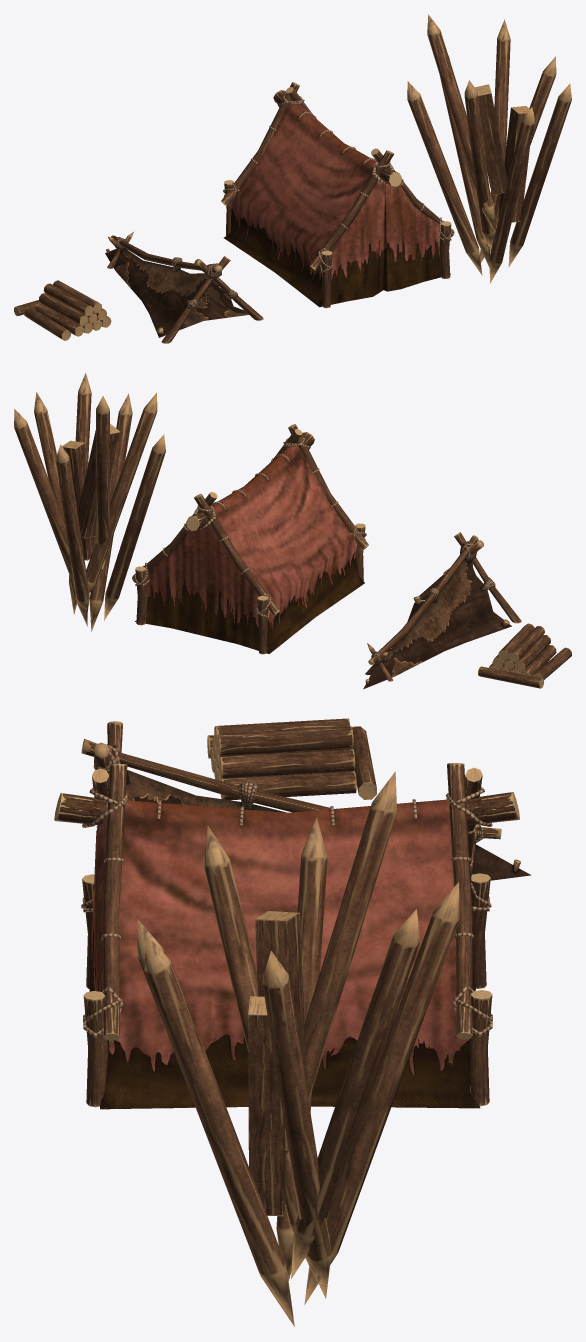
Rendered from hunter_village 1.fbx.
3 views of the same model, one above another, from view 1: azimuth 30°, elevation 25°; view 2: azimuth 150°, elevation 25°; view 3: azimuth 270°, elevation 25° (orthographic). The views are drawn at different scales.
Visible parts, largest first — view 1: tent_01, wood_2, tent_04, wood; view 2: tent_01, wood_2, tent_04, wood; view 3: tent_01, wood_2, wood, tent_04.
Boxes of the visible parts, bbox=[...] form: tent_01: bbox=[221, 82, 454, 308]; wood_2: bbox=[407, 14, 571, 283]; tent_04: bbox=[105, 232, 263, 343]; wood: bbox=[14, 280, 111, 340]; tent_01: bbox=[132, 424, 368, 654]; wood_2: bbox=[14, 373, 165, 631]; tent_04: bbox=[363, 532, 521, 689]; wood: bbox=[478, 623, 571, 688]; tent_01: bbox=[54, 763, 519, 1109]; wood_2: bbox=[137, 771, 459, 1326]; wood: bbox=[207, 718, 376, 800]; tent_04: bbox=[81, 721, 530, 880].
Size of the model in its own units: 973 by 467 by 388.
